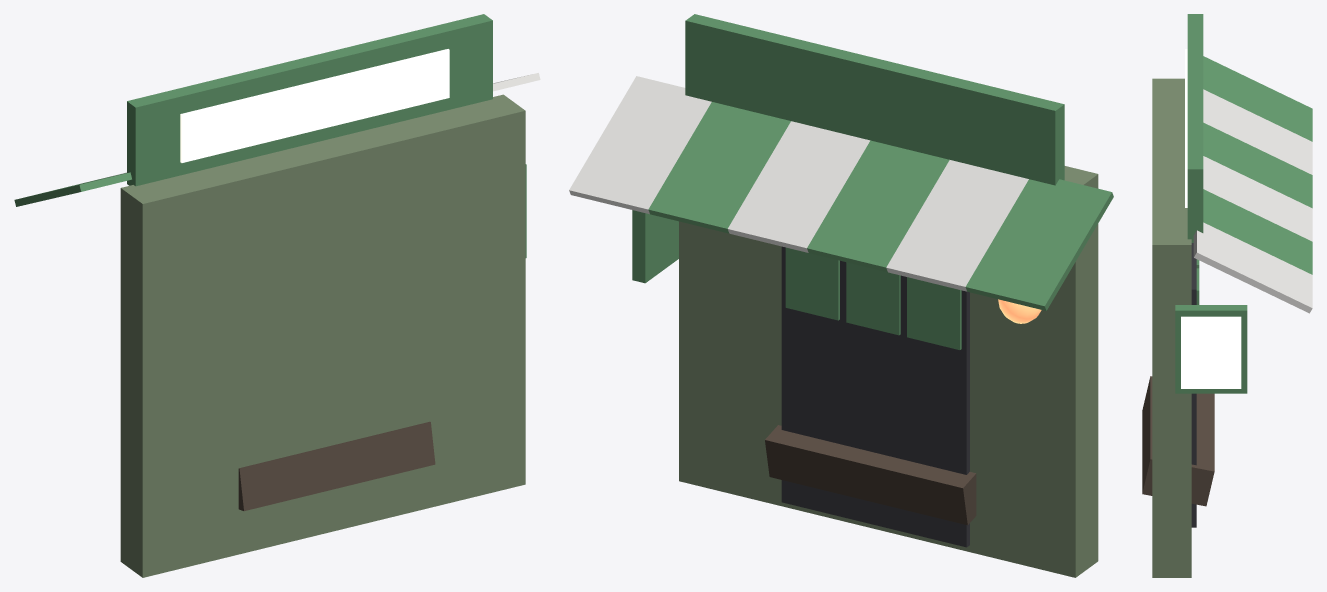
Rendered from prop_mise_yaoya.glb.
The picture shows the model from 3 angles, left to right: view 1: azimuth 30°, elevation 25°; view 2: azimuth 150°, elevation 25°; view 3: azimuth 270°, elevation 25°; orthographic projection. The views are drawn at different scales.
Visible parts, largest first — view 1: mise_yaoya; view 2: mise_yaoya; view 3: mise_yaoya.
Boxes of the visible parts, box(x1,y1,x2,y2) form: mise_yaoya: box(14, 14, 540, 577); mise_yaoya: box(569, 14, 1113, 577); mise_yaoya: box(1142, 14, 1312, 577).
Bounding box in the file's own units: 3.6 × 3.39 × 1.3.
